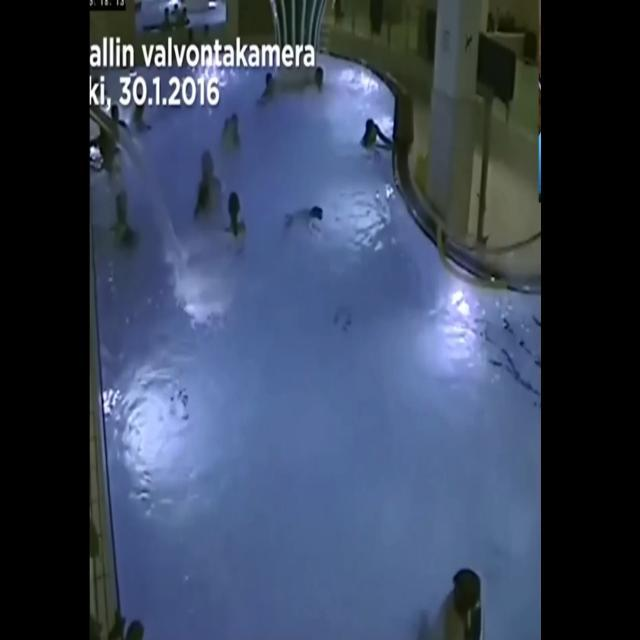Out of Water: (282, 196, 326, 243)
